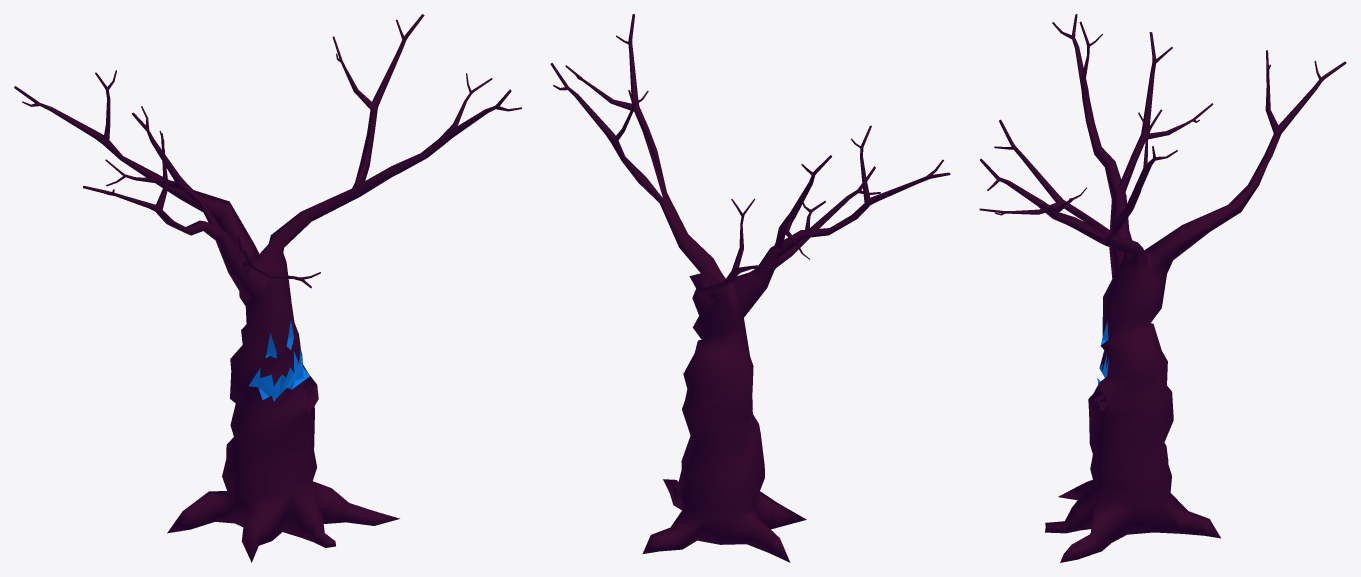
Rendered from HWN20_ScaryTree_03.glb.
3 renders of one model, left to right at view 1: azimuth 30°, elevation 25°; view 2: azimuth 150°, elevation 25°; view 3: azimuth 270°, elevation 25°, orthographic. The views are drawn at different scales.
Parts seen in each view (by area): view 1: HWN20_ScaryTree_01; view 2: HWN20_ScaryTree_01; view 3: HWN20_ScaryTree_01.
Boxes of the visible parts, x1,y1,x2,y2 form: HWN20_ScaryTree_01: (14, 14, 521, 562); HWN20_ScaryTree_01: (550, 14, 950, 562); HWN20_ScaryTree_01: (979, 14, 1346, 562).
Size of what is drawn, in the model's own units: 4.26 by 4.61 by 3.35.
Materials: 2 (2 with a texture image).
